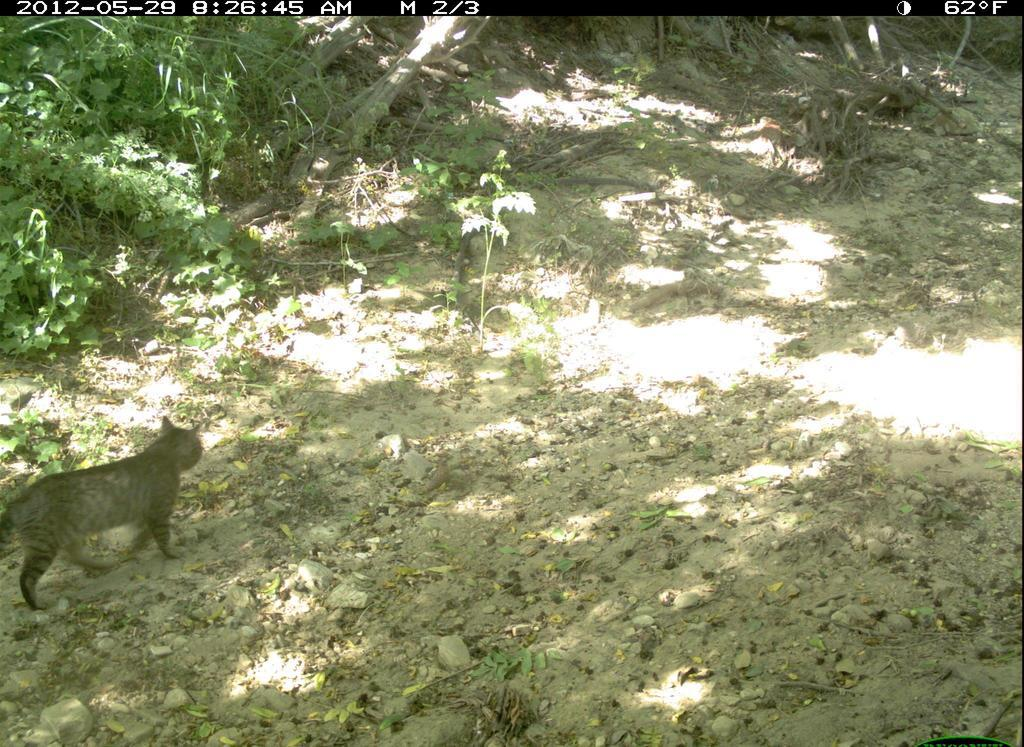cat: (1, 395, 217, 624)
